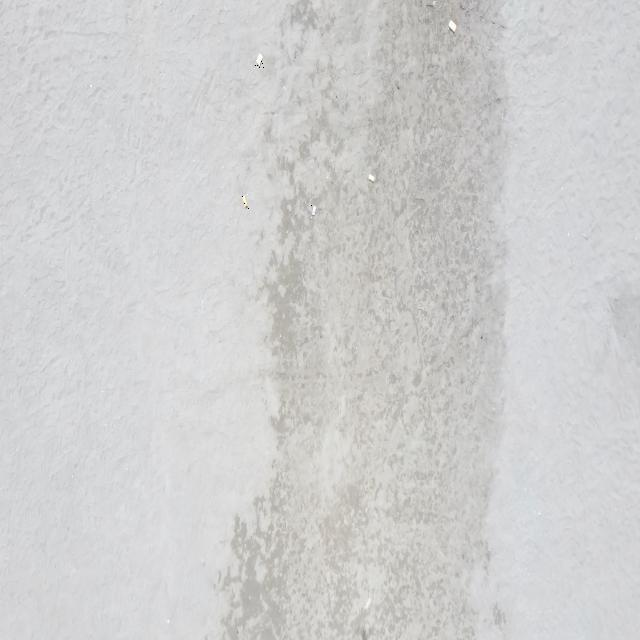Garbage: (308, 203, 316, 216), (447, 20, 455, 32), (364, 596, 371, 609), (256, 55, 263, 67), (241, 195, 247, 208), (367, 173, 375, 181), (426, 0, 435, 7)
